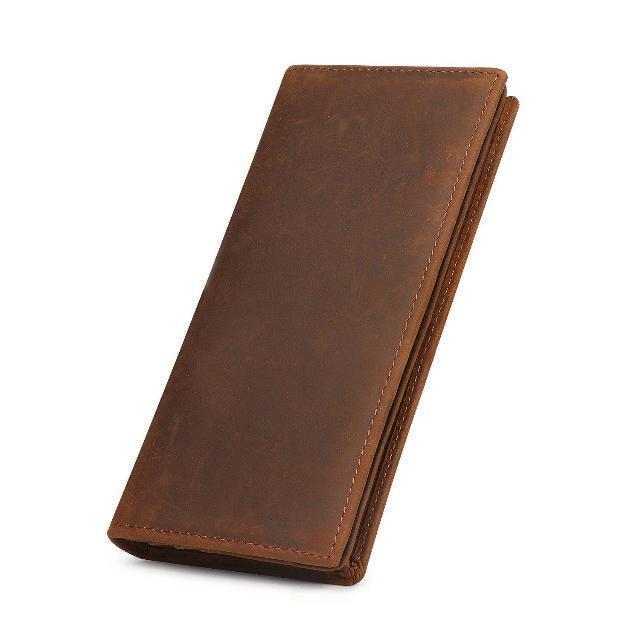wallet: (101, 59, 522, 588)
